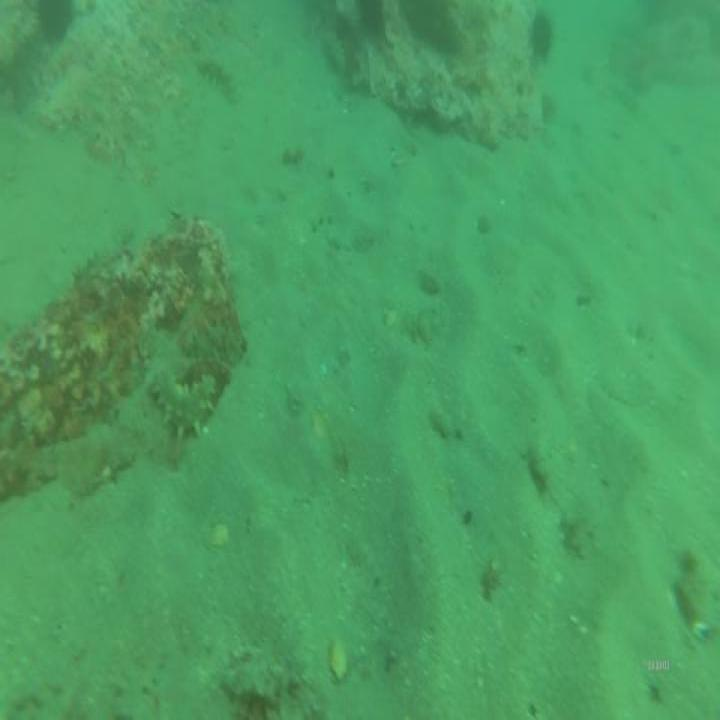echinus: (527, 5, 557, 55)
holothurian: (143, 363, 219, 446), (194, 52, 237, 100)
